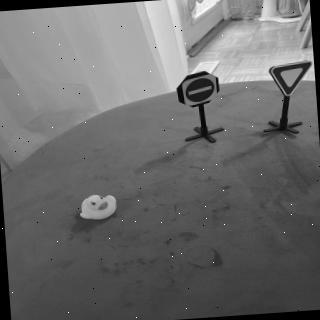duck_regular: (77, 192, 120, 224)
sign_noentry: (179, 73, 222, 109)
sign_yield: (268, 59, 316, 100)
